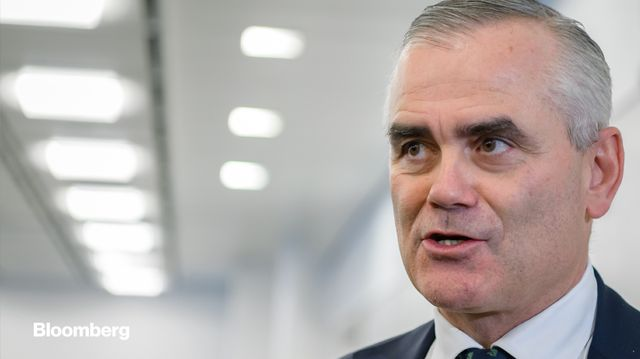bare: (390, 169, 564, 306)
